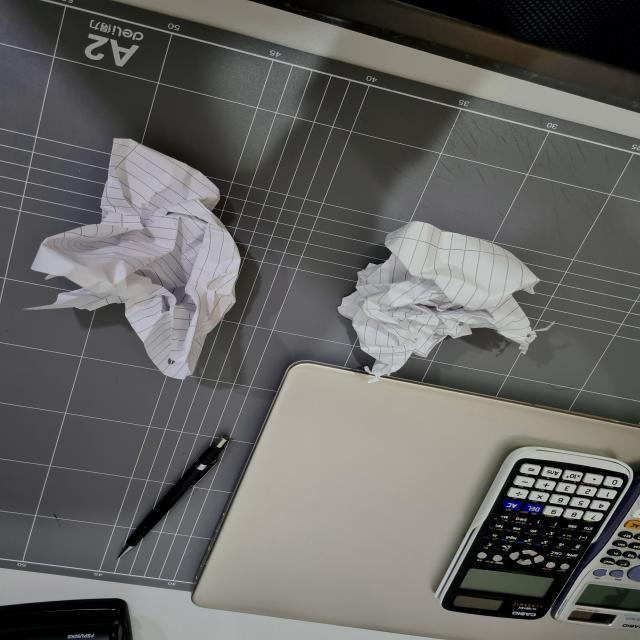Paper: (11, 108, 258, 399), (330, 189, 575, 439)
